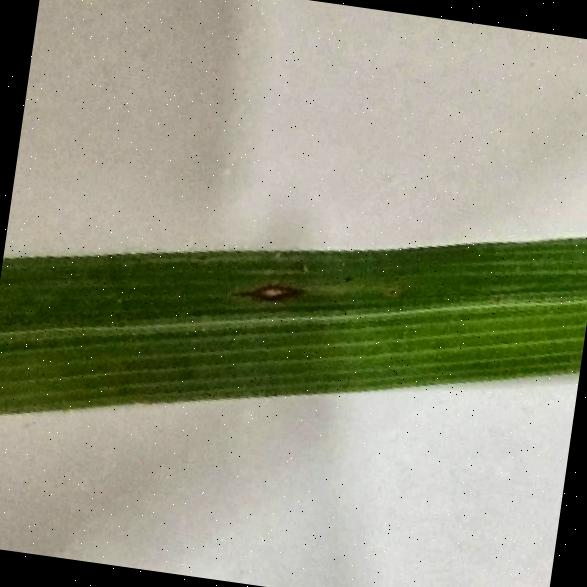Leaf_smut: (234, 266, 312, 319)
